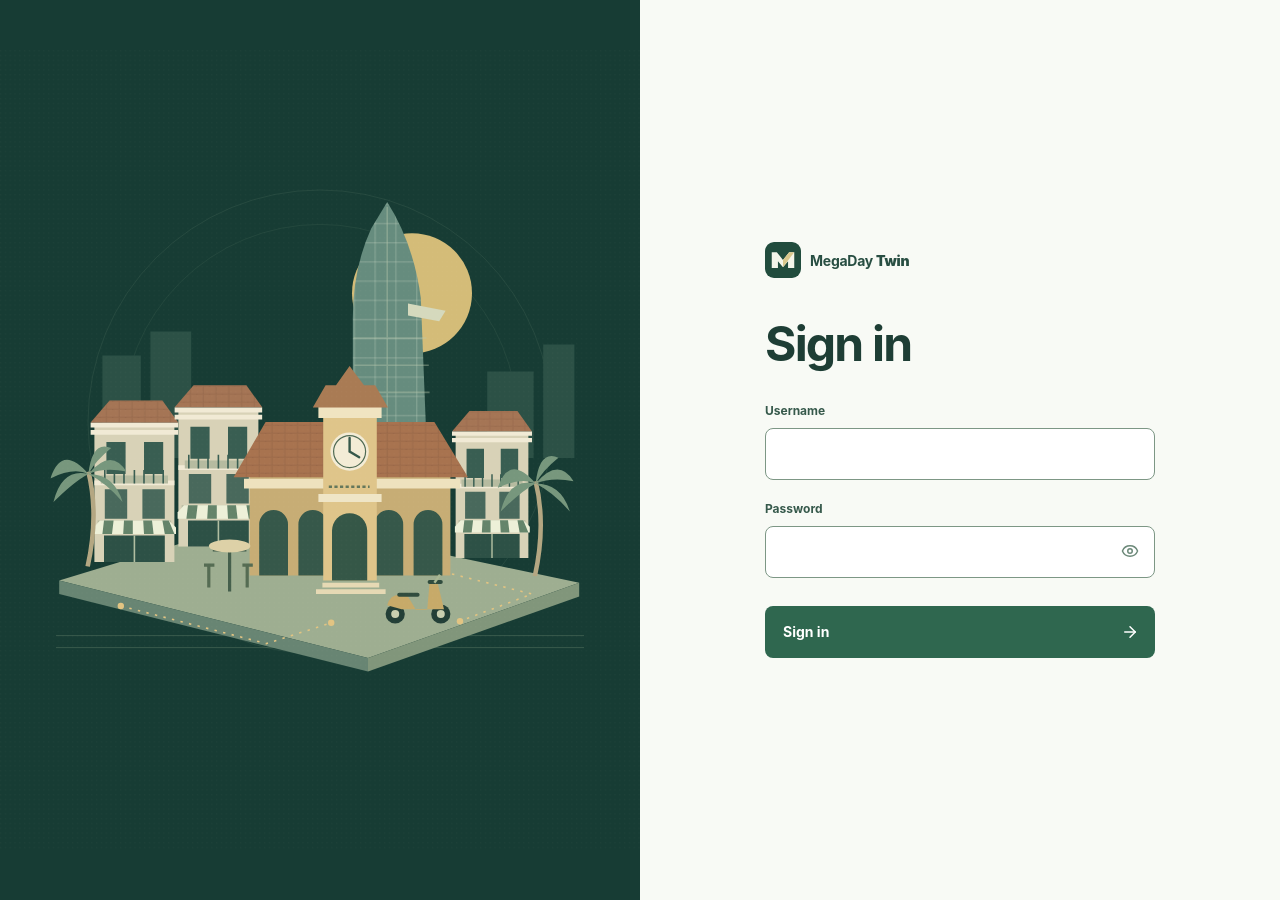
keeps the submitted credentials stable while signing in
Type "judges" into the field labelled "Username".
click(960, 454); type("judges")  # box [765,428,1155,480]
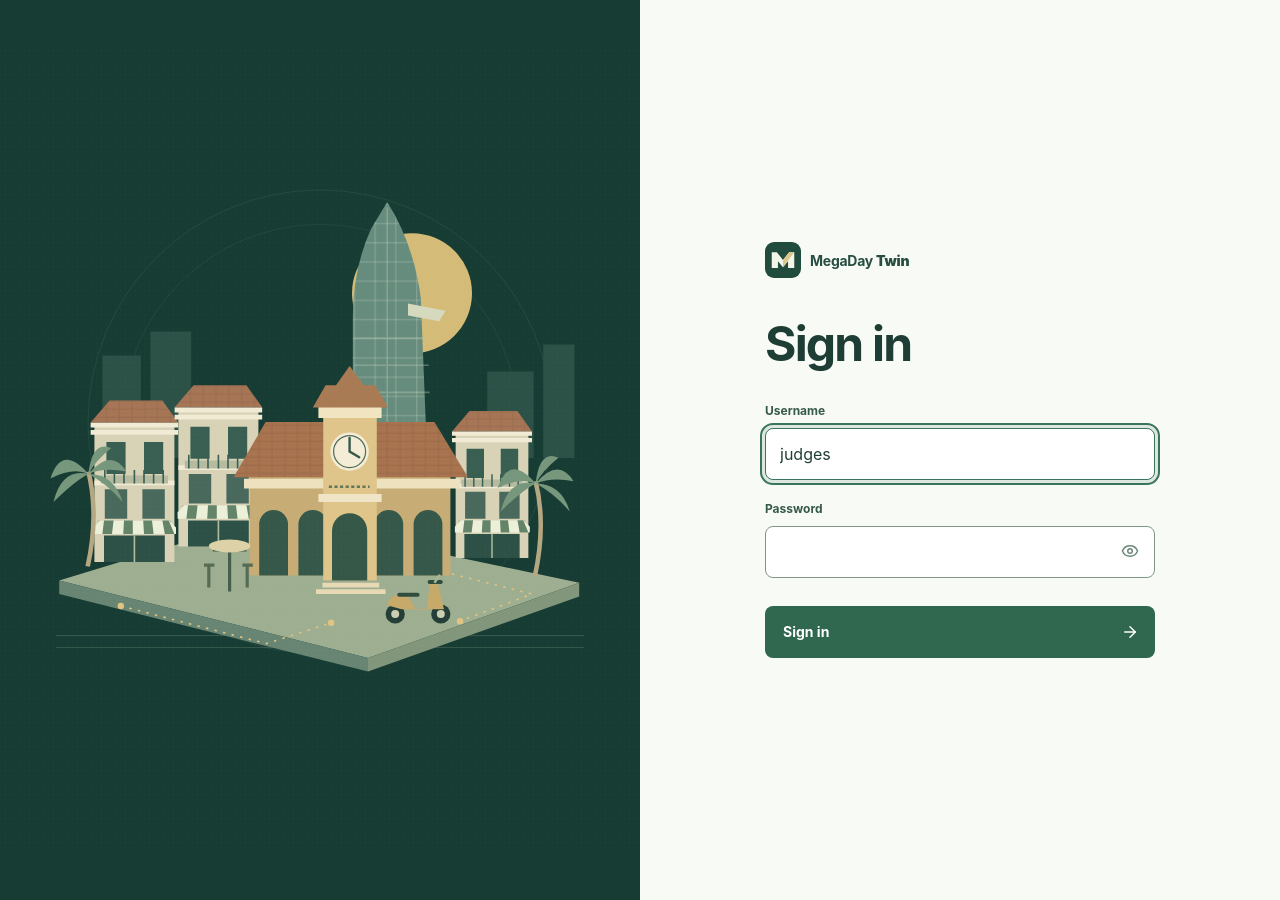
Type "test-password" into the password field labelled "Password".
click(960, 552); type("test-password")  # box [765,526,1155,578]
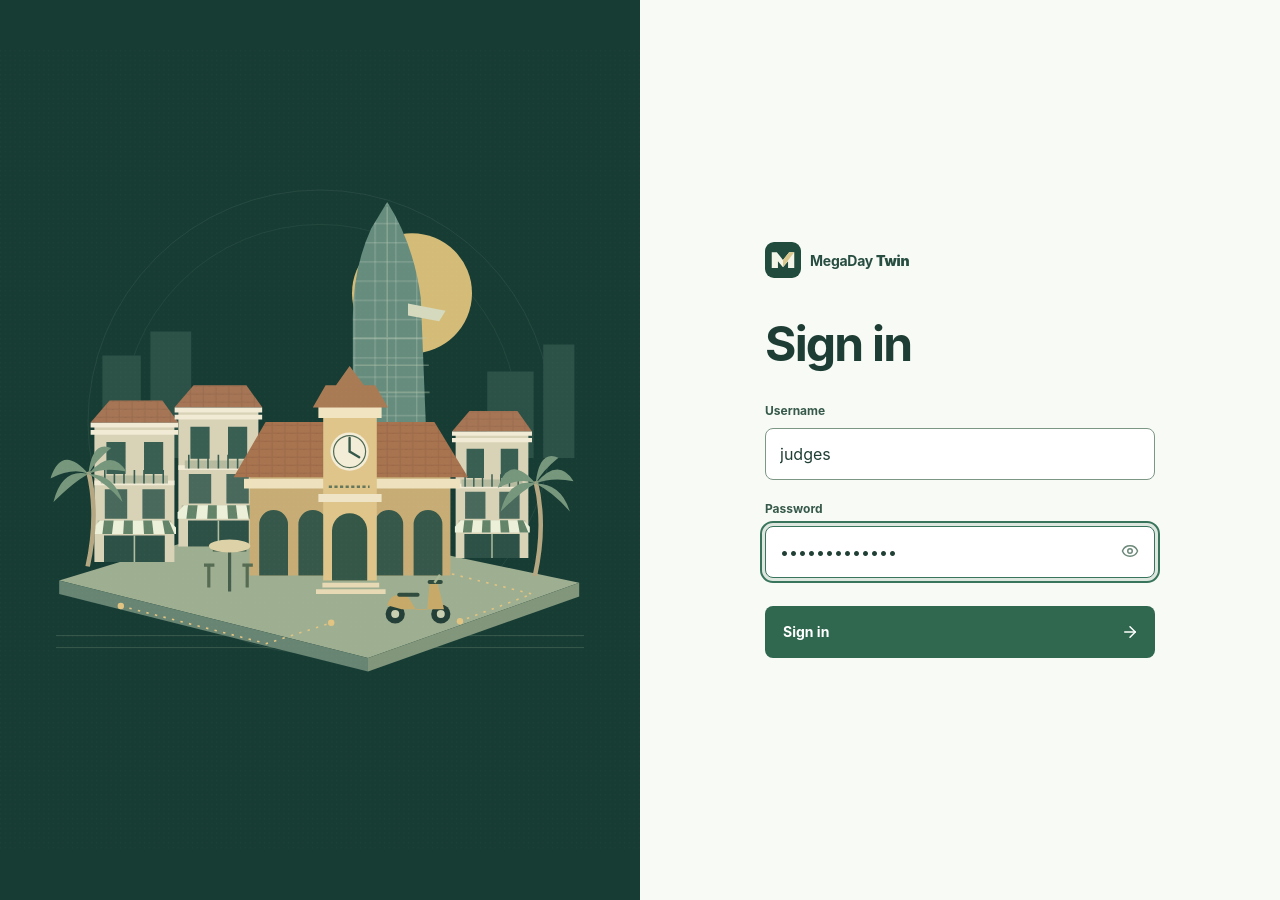
Click the button "Sign in".
click(806, 632)  # box [765,606,1155,658]
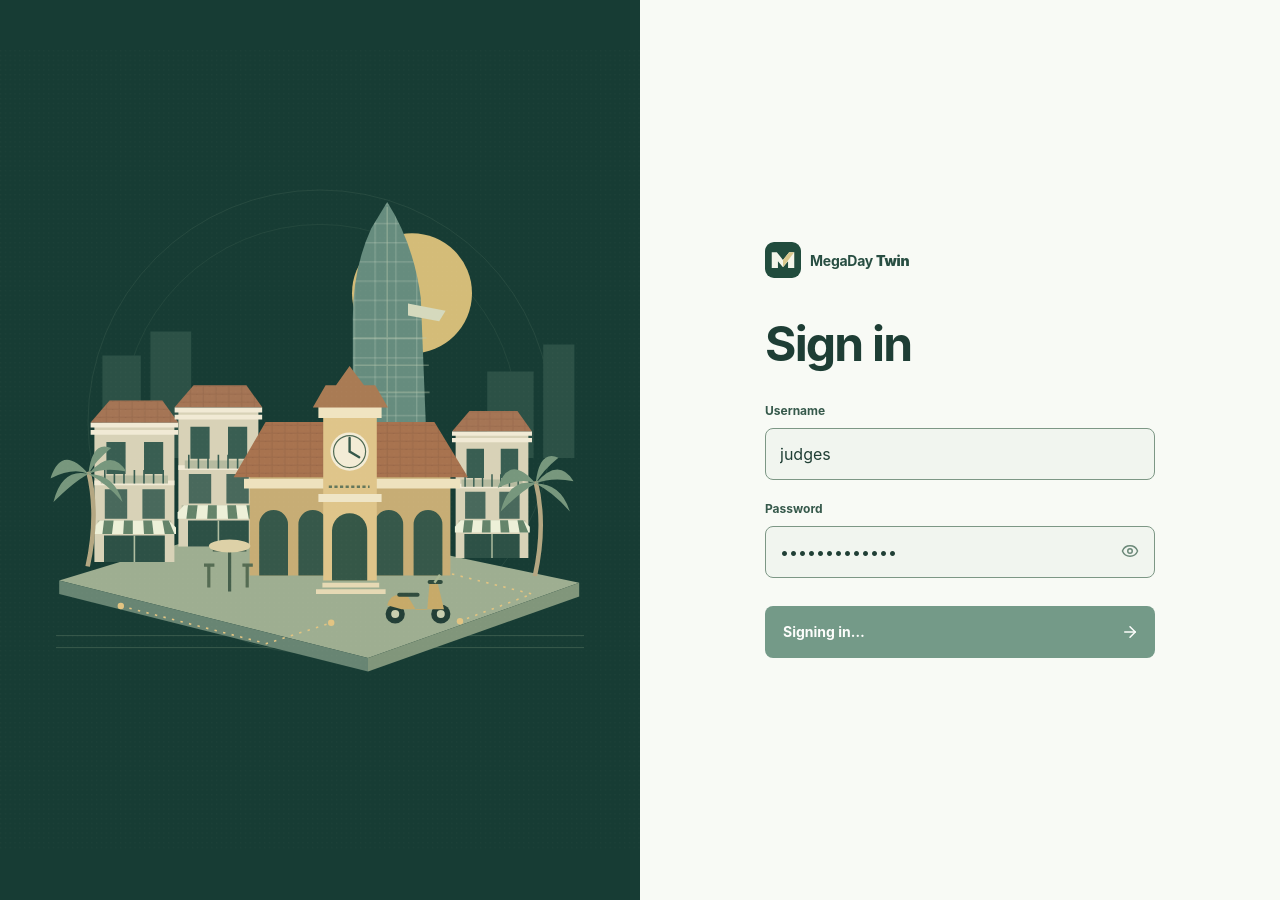
Result: the button "Signing in…" is disabled at [765,606,1155,658]
